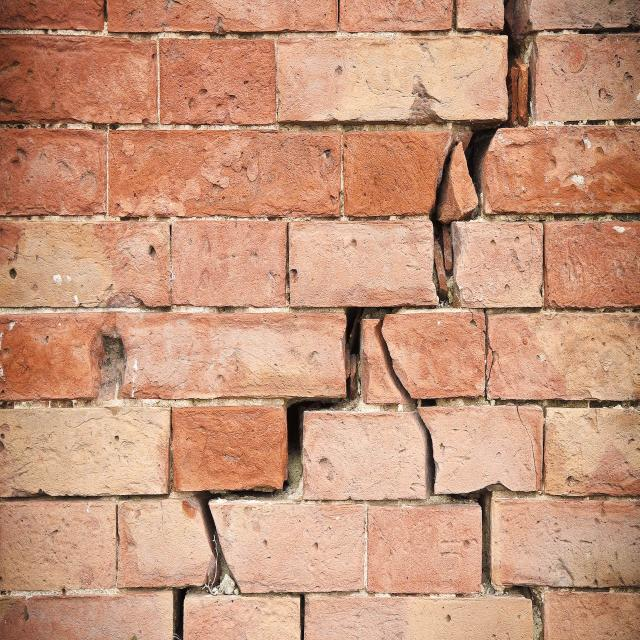Wall_Cracks: (168, 3, 570, 640)
